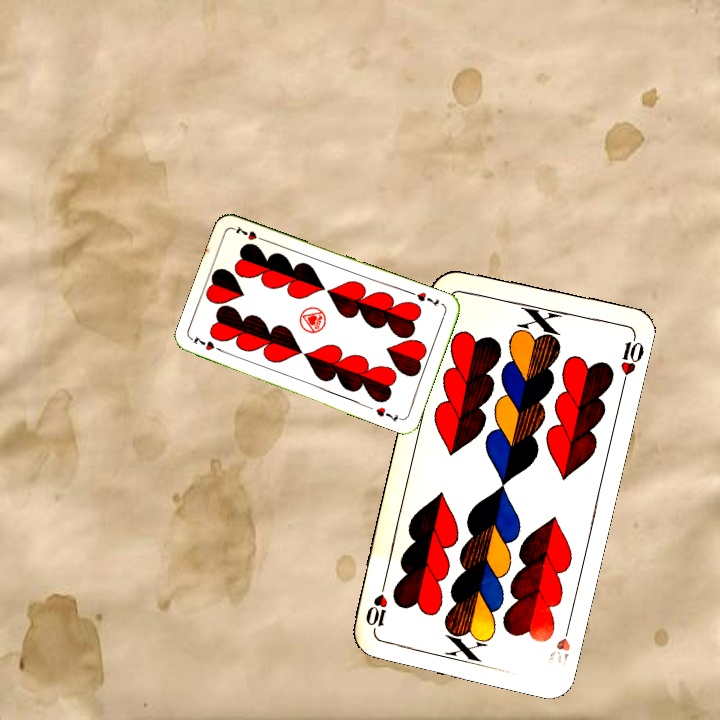H10: (543, 616, 574, 669)
H7: (188, 332, 227, 355), (406, 288, 442, 309)
